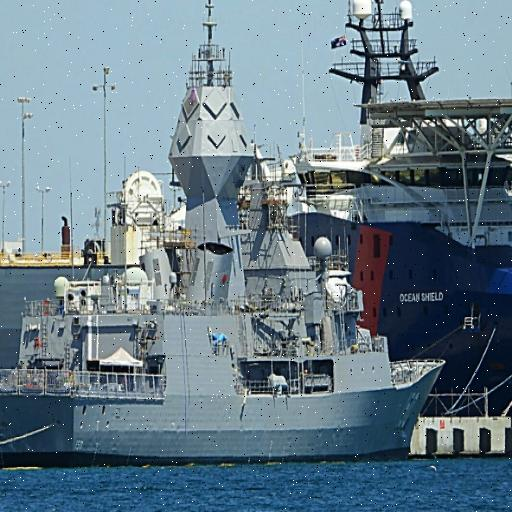Fragata: (1, 1, 450, 468)
